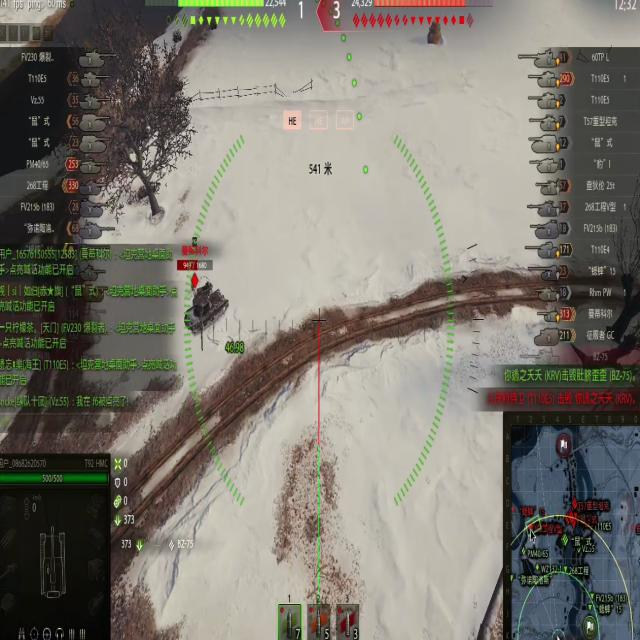tank: (173, 256, 236, 341)
